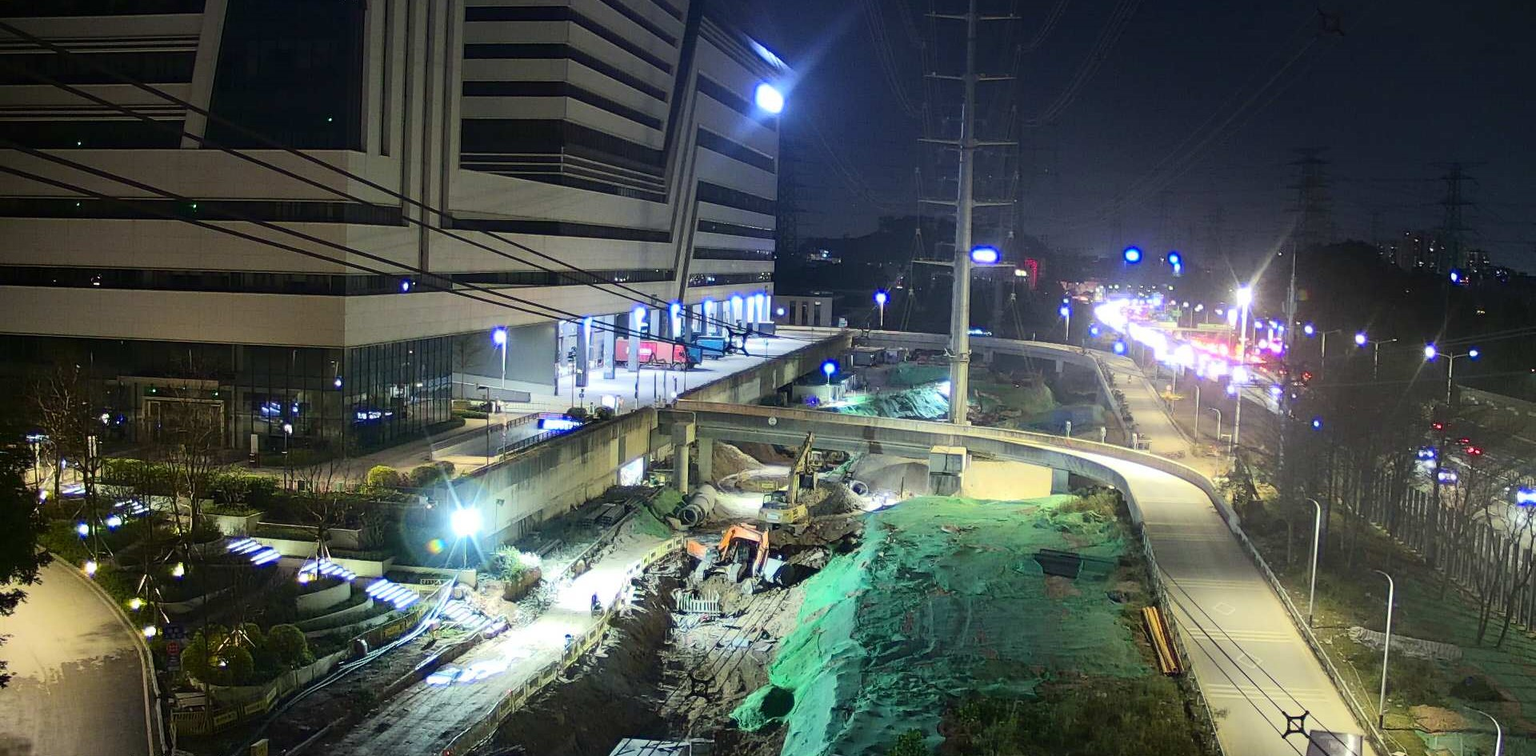过爆灯光: (1128, 319, 1290, 394), (1093, 298, 1162, 334), (755, 83, 783, 114), (542, 418, 578, 430), (972, 249, 996, 262), (1169, 254, 1181, 273), (939, 381, 950, 396), (1227, 309, 1237, 325), (1126, 250, 1138, 261)
